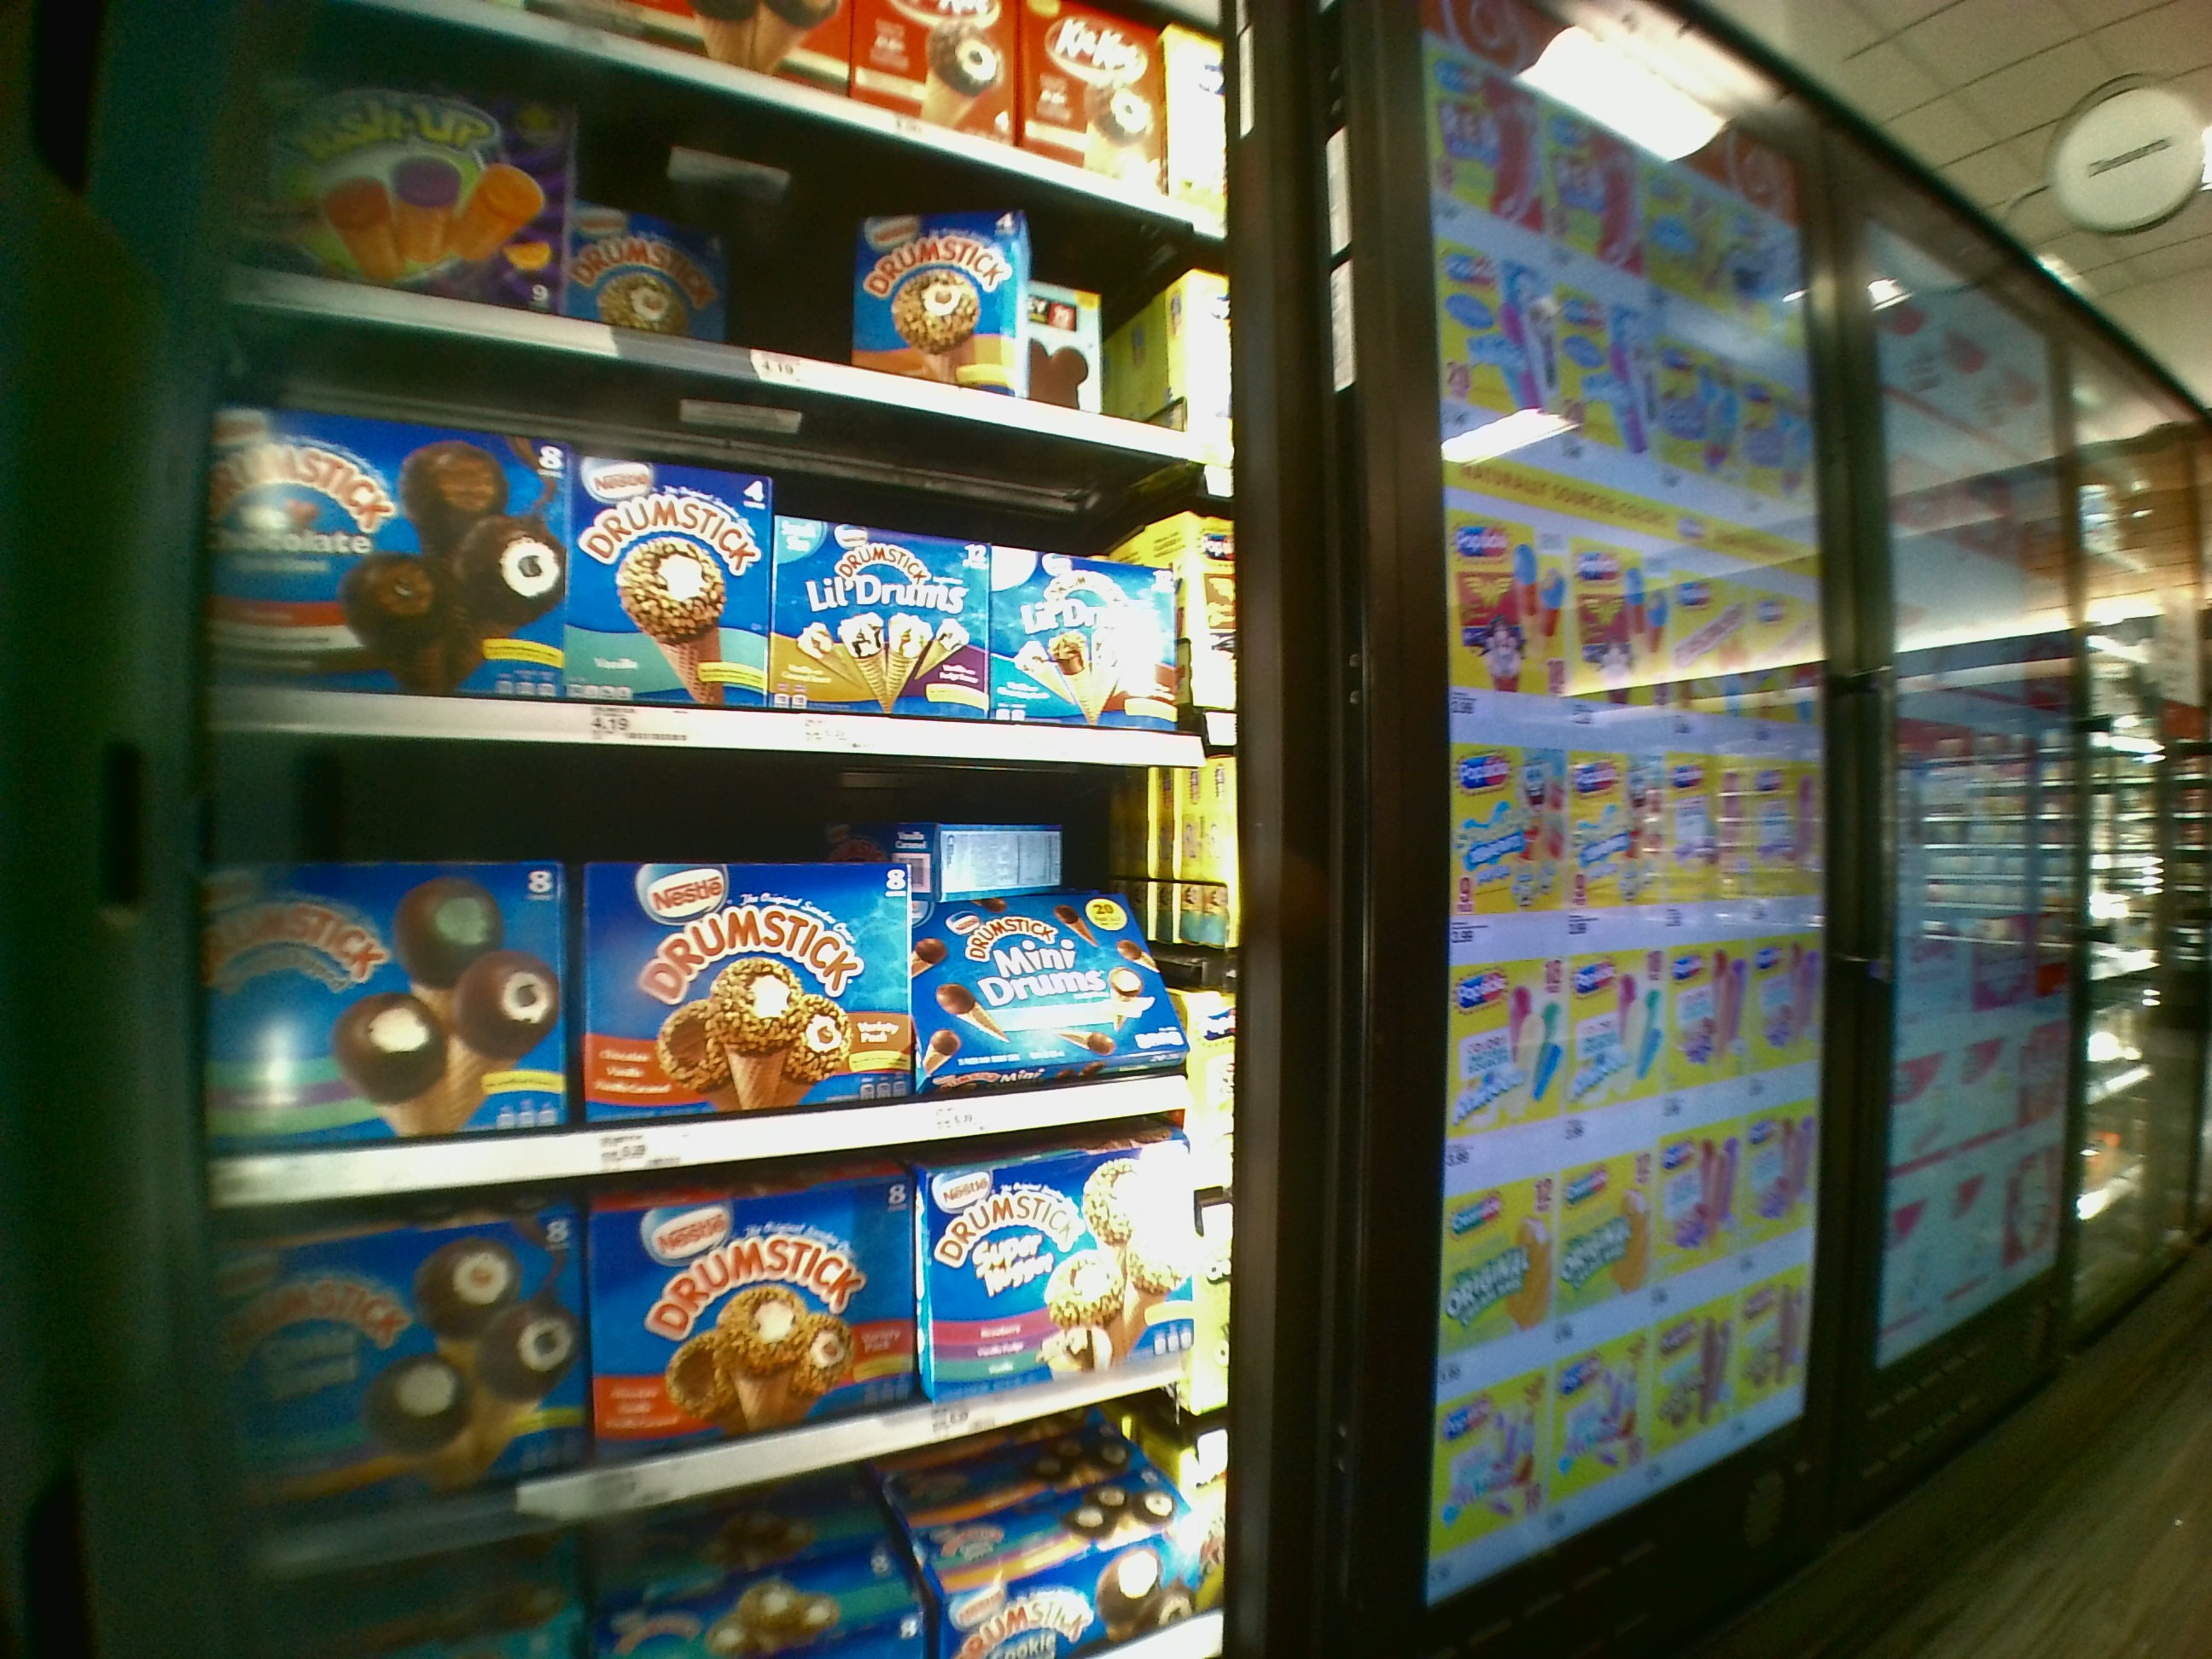shelf: (186, 763, 1219, 1176), (195, 404, 1219, 749), (212, 1143, 1223, 1473)
